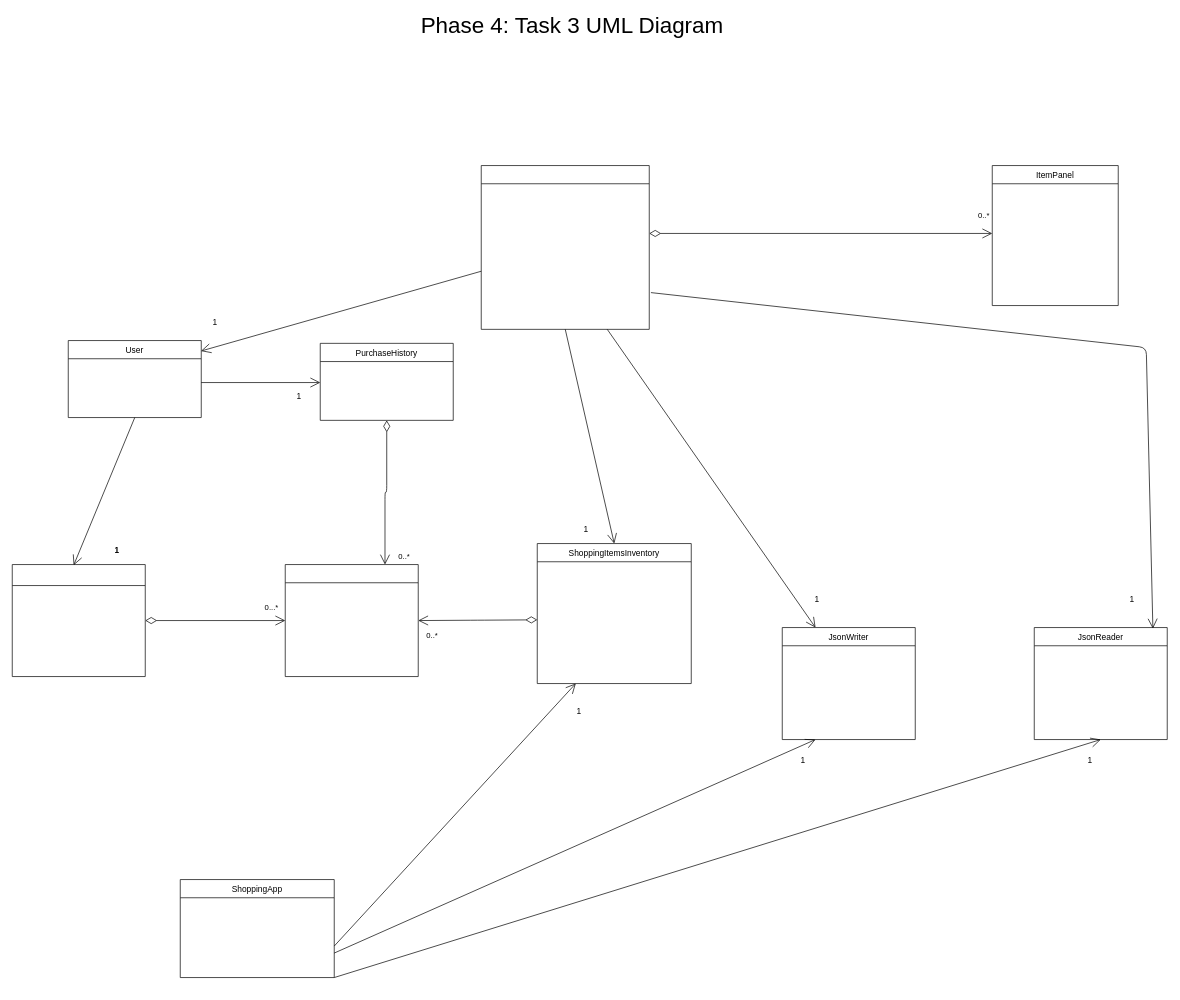
The diagram is 1180 pixels wide and 1000 high, and some of its shapes have lost their labels. The shapes that lost their labels are listed below. From the top down, each one's box as (x1, y1, x2, y2) in pixels, then its label:
(481, 165, 649, 329): DashBoard
(12, 564, 145, 677): Cart
(285, 564, 418, 677): ShoppingItem
